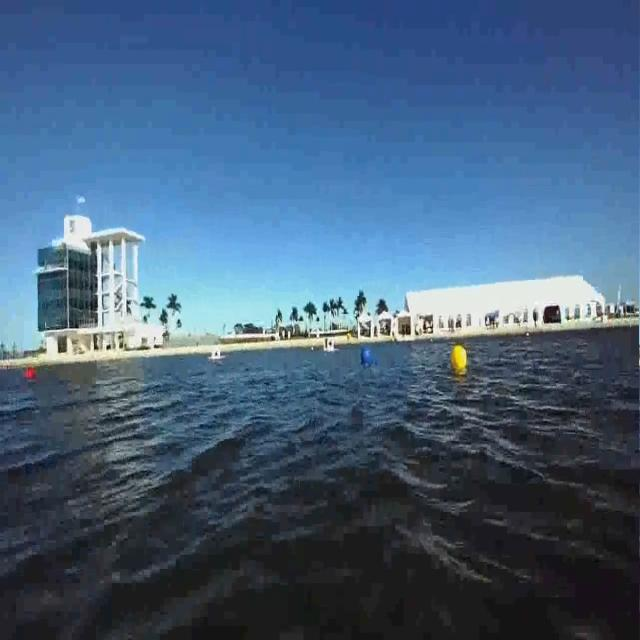blue-buoy: (353, 342, 378, 367)
yellow-buoy: (445, 346, 479, 372)
